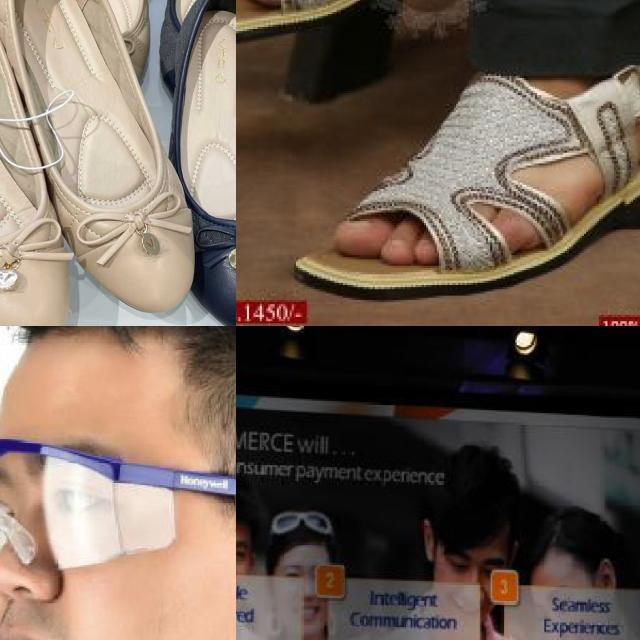Sandals: (293, 50, 640, 294), (0, 0, 215, 326), (120, 0, 236, 326)
face_nomask: (0, 419, 135, 640), (282, 566, 327, 625)
glasses: (0, 438, 236, 576), (268, 507, 336, 535)
head_nohelmet: (0, 326, 236, 393)
